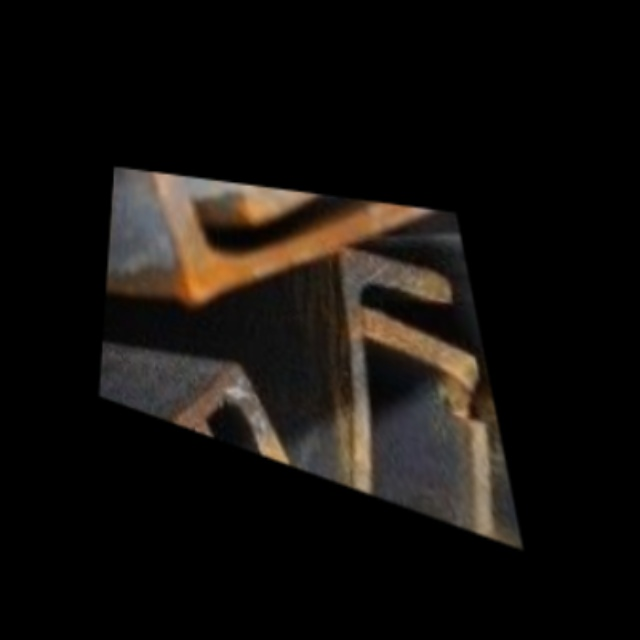Shveller: (341, 259, 487, 538), (345, 321, 503, 544), (99, 334, 298, 469)
